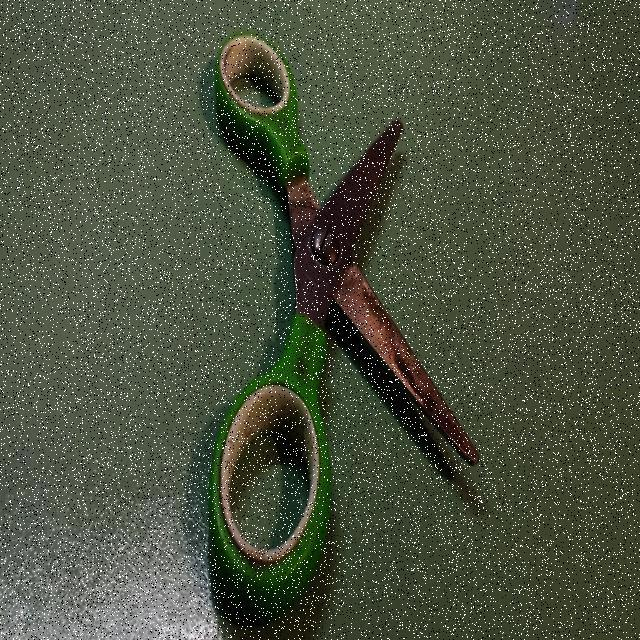scissors: (202, 23, 484, 636)
